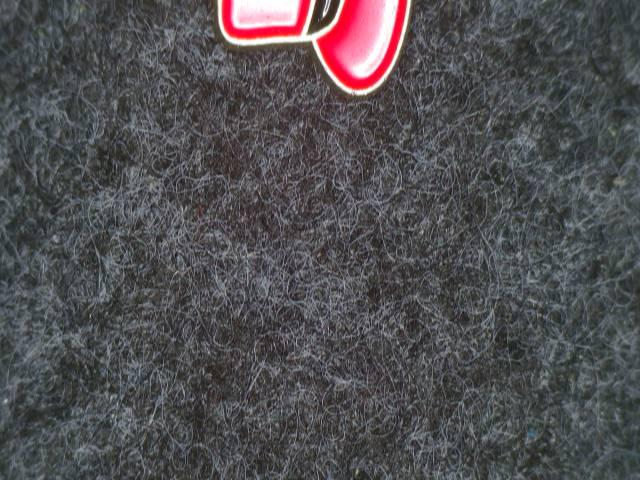Red-Hat: (203, 0, 443, 150)
